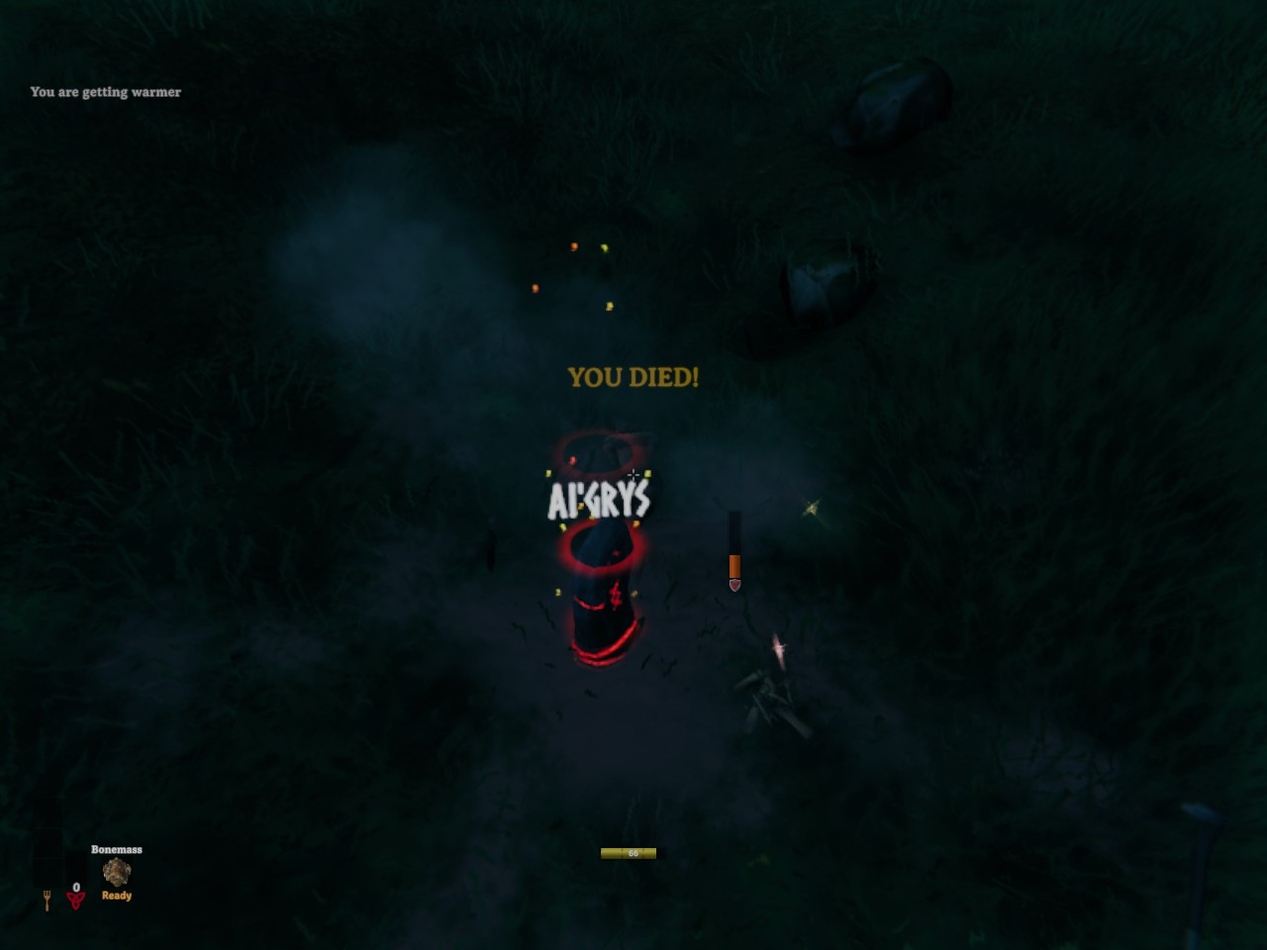Gravestone: (574, 519, 639, 665)
